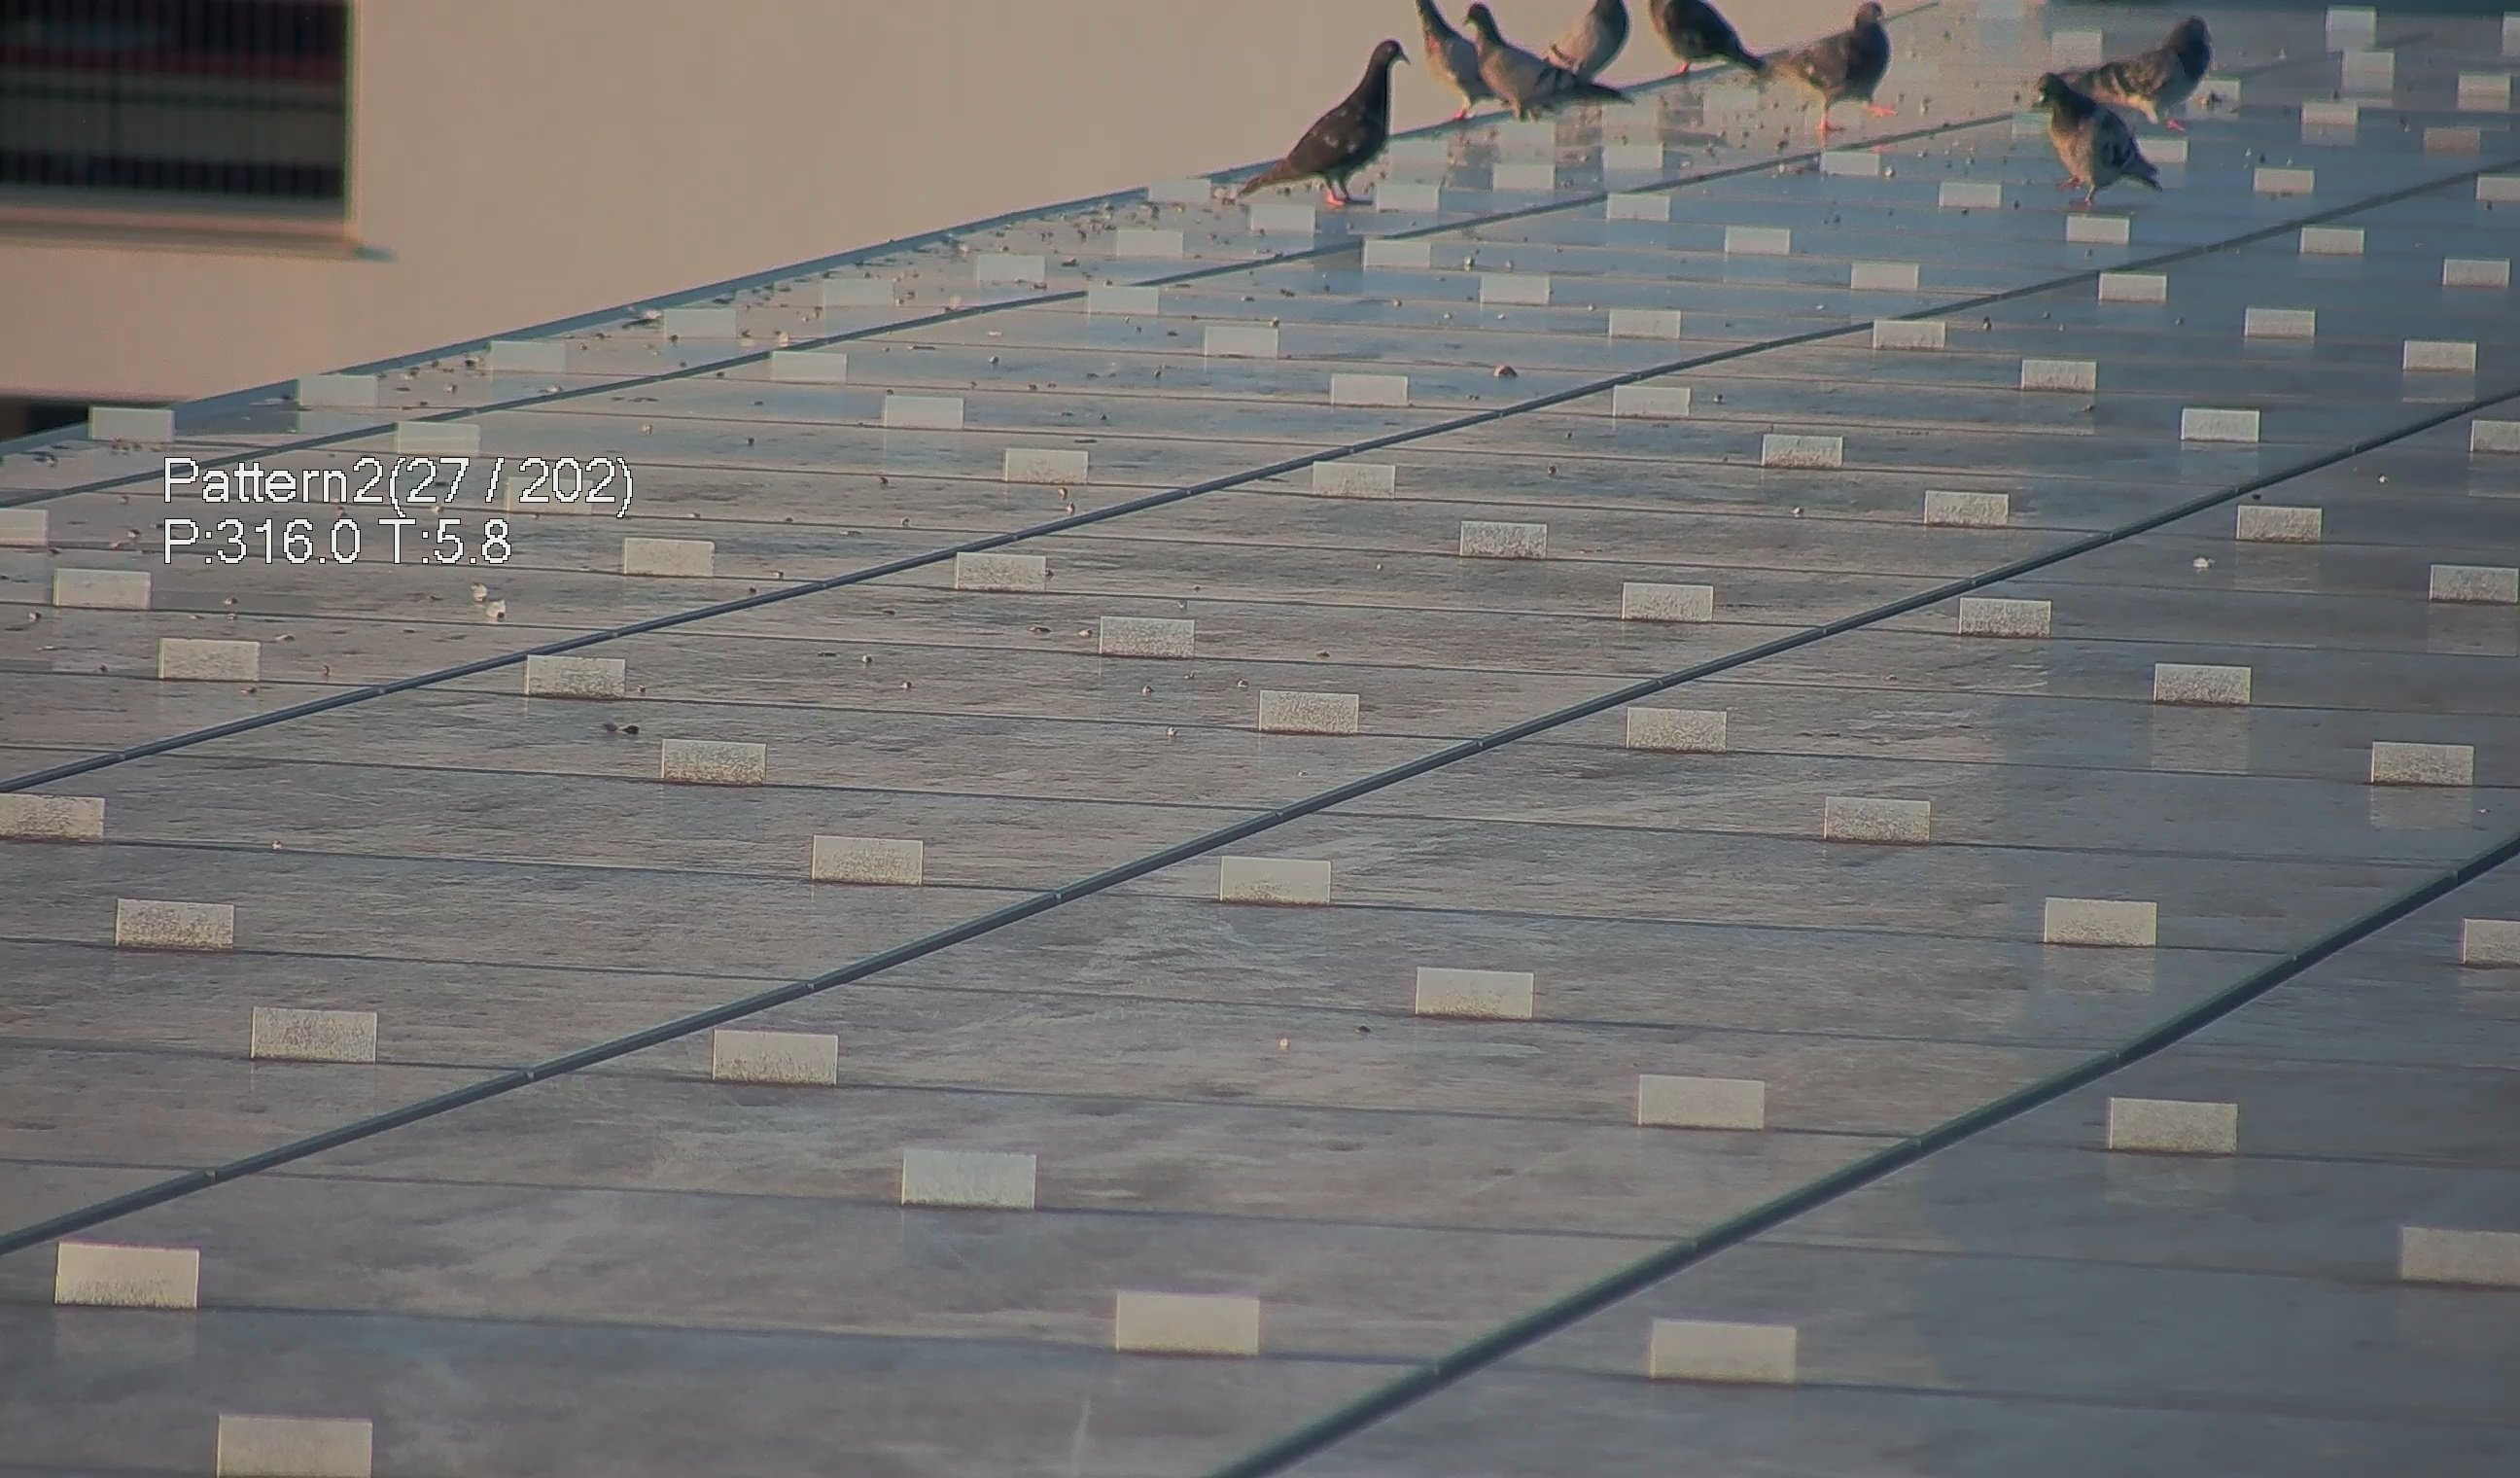Pigeon: (1220, 26, 1423, 211), (2040, 2, 2221, 195), (1467, 11, 1635, 134), (2073, 11, 2228, 127), (1780, 2, 1901, 134), (1407, 2, 1519, 125), (1646, 2, 1767, 84)
